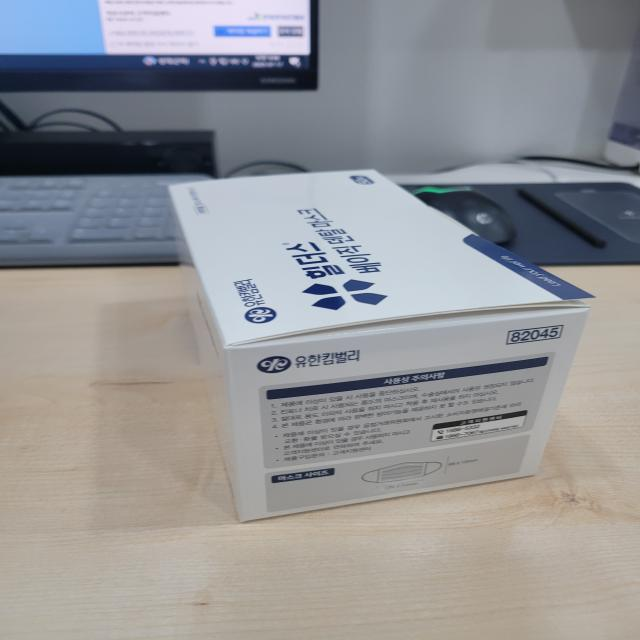mask: (146, 159, 605, 537)
